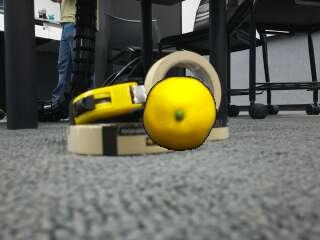lemon: (143, 76, 214, 150)
